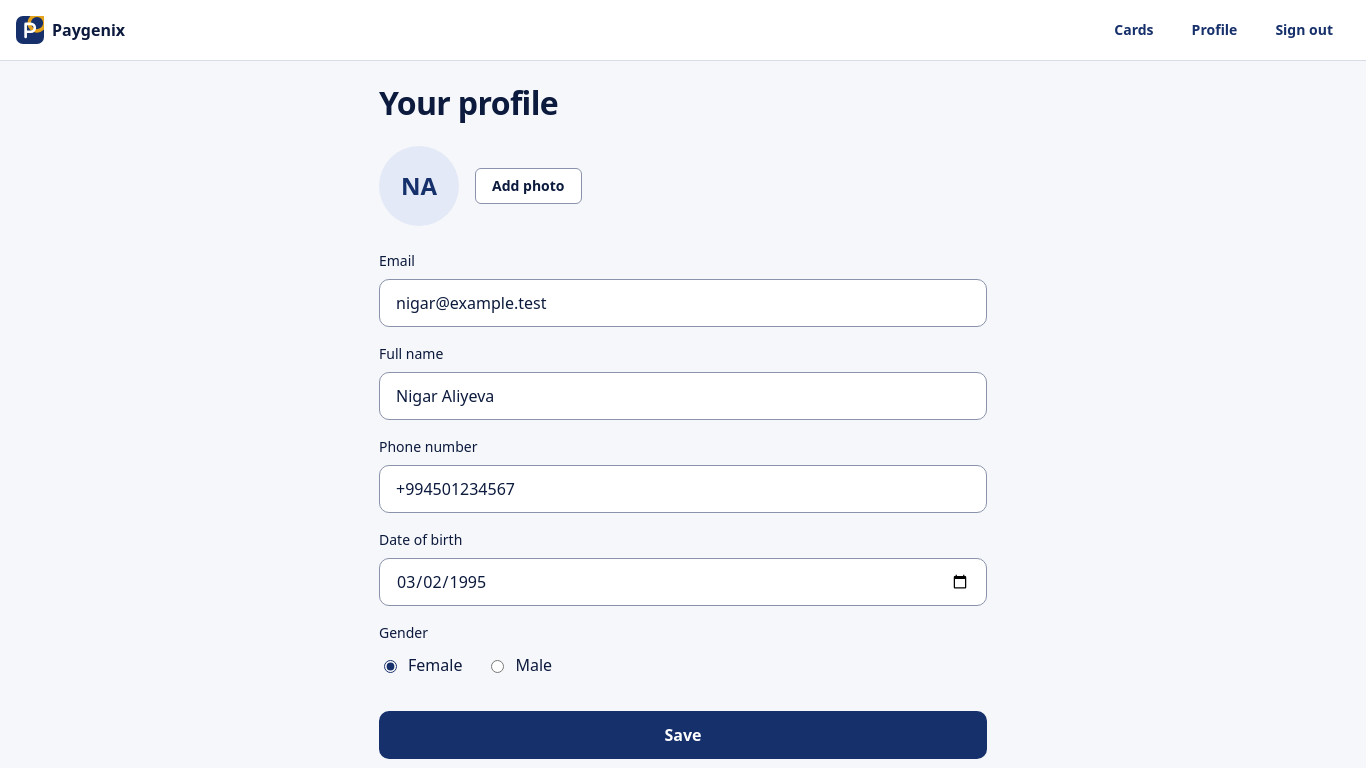
Test: prefills the saved profile and sends it back in the API formats
Expected: the field labelled "Full name" holds "Nigar Aliyeva", [380,373,986,419]
Expected: the field labelled "Email" holds "nigar@example.test", [380,280,986,326]
Replace the text in the field labelled "Phone number" with "055 111 22 33" at (683, 489), box [380,466,986,512]
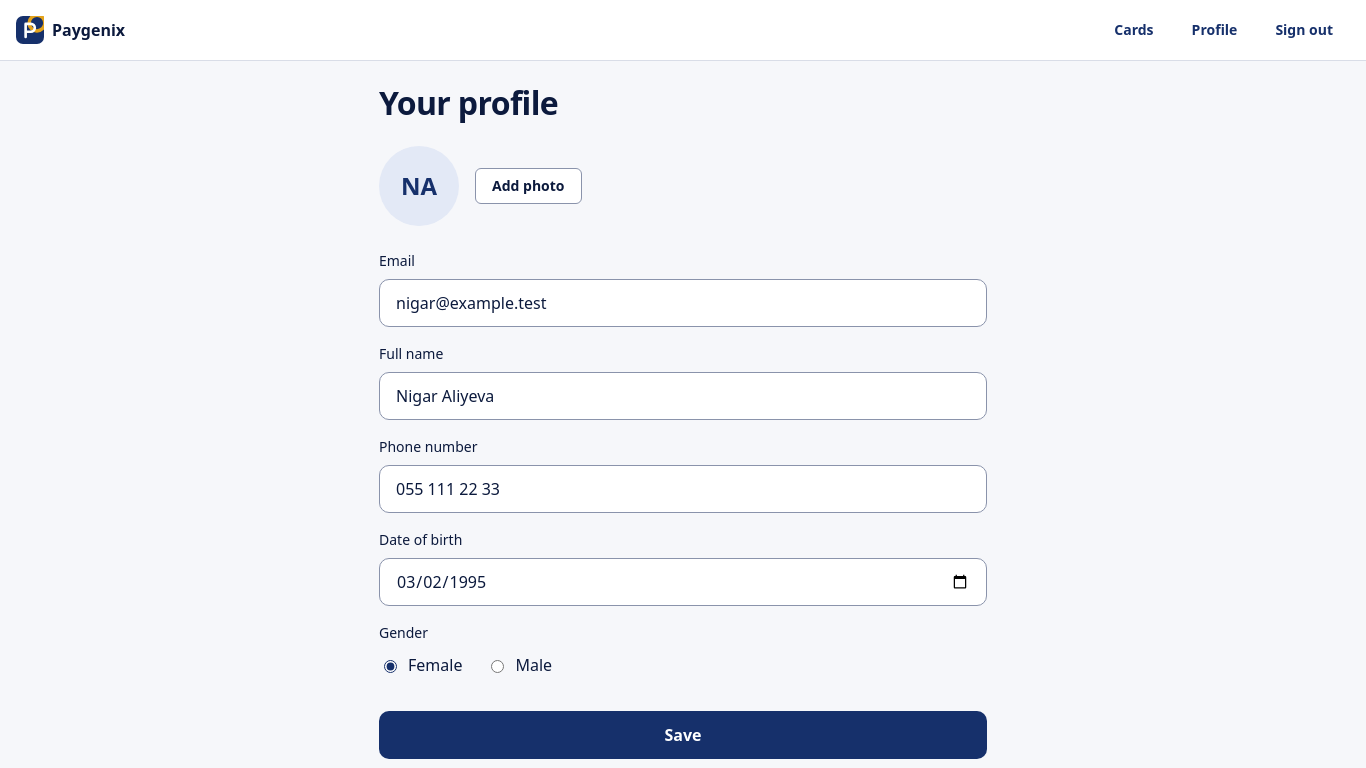
Click the button "Save".
click(683, 735)  # box [379,711,987,759]
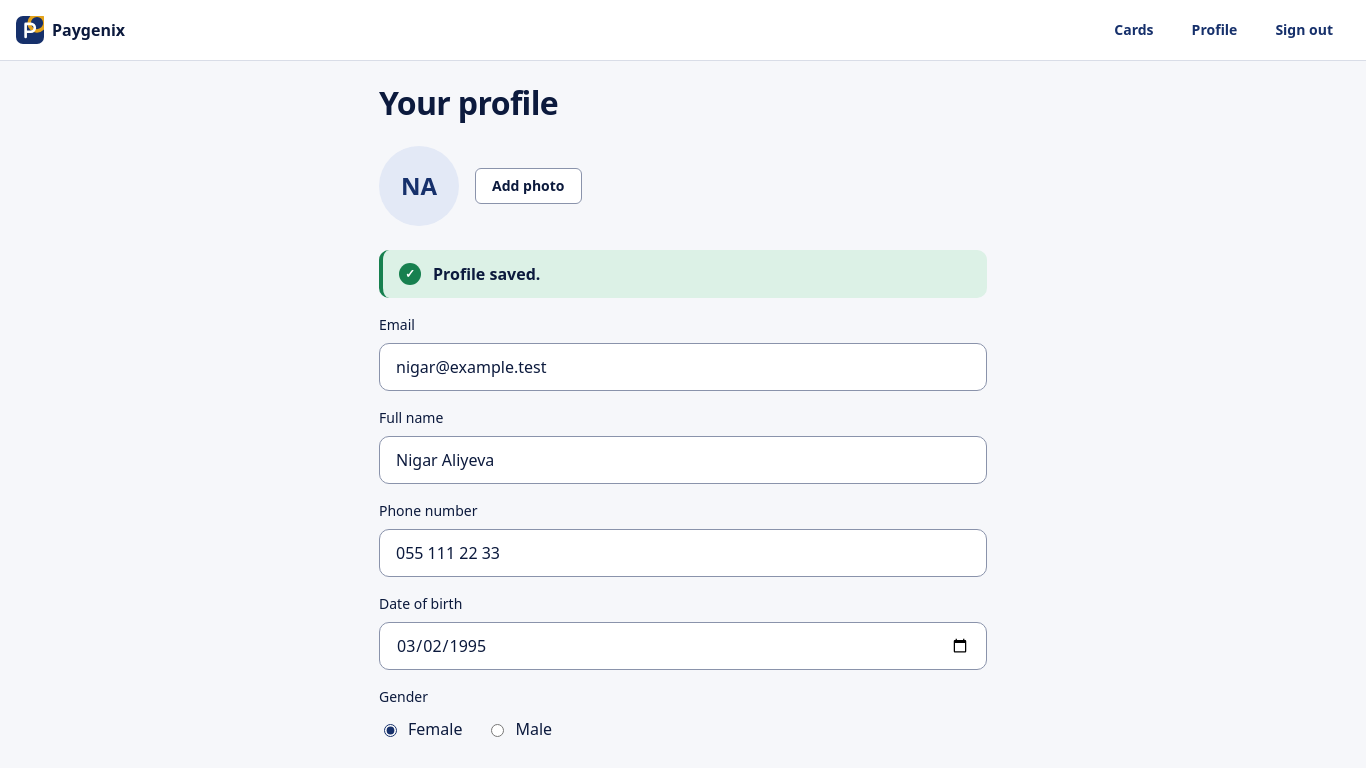
Expected: the text "Profile saved." is shown, [433,263,540,285]
